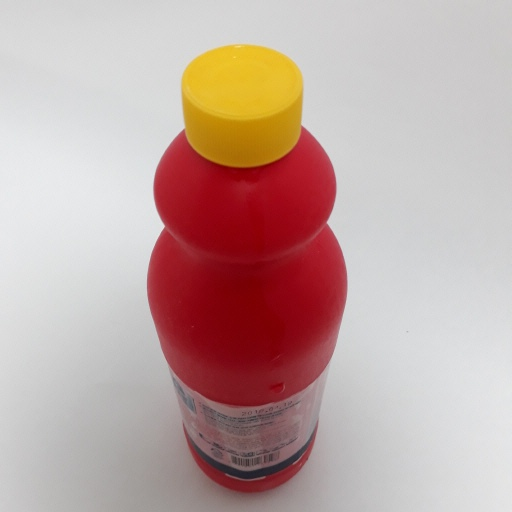Plastic_0: (142, 44, 348, 497)
